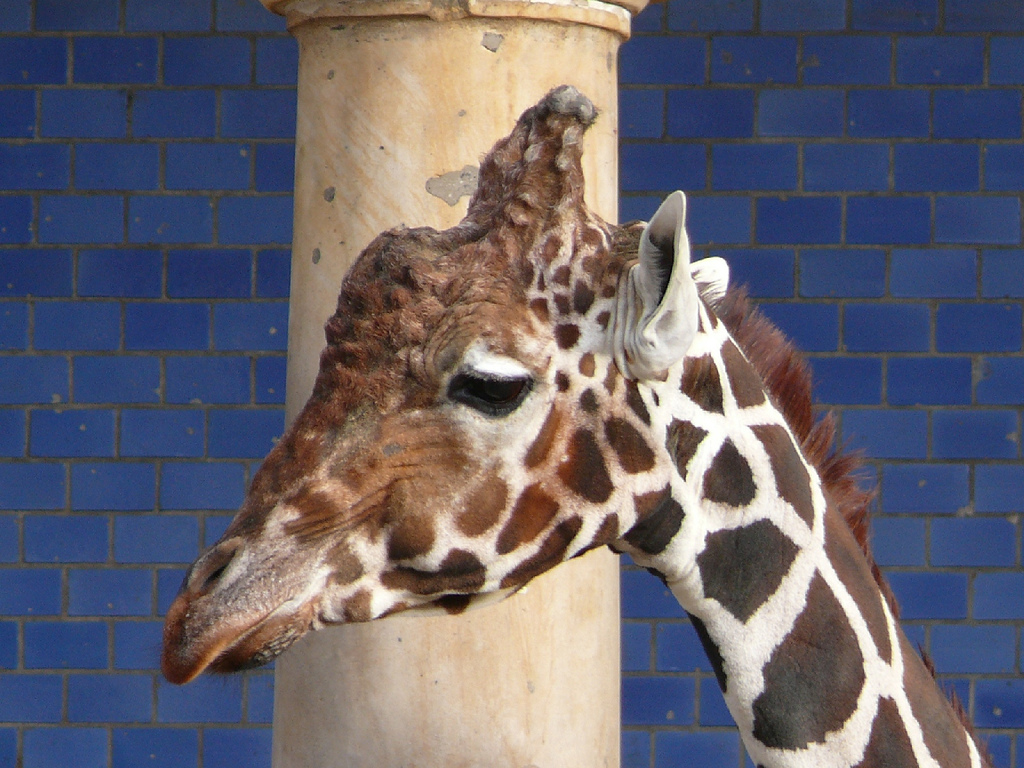giraffe: (142, 144, 938, 746)
